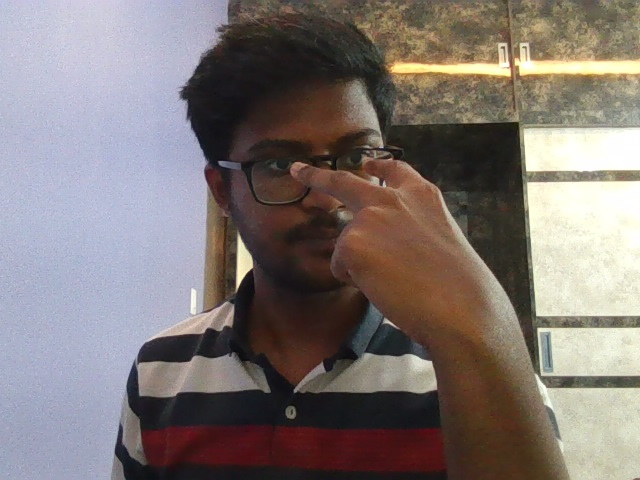see: (271, 156, 489, 337)
